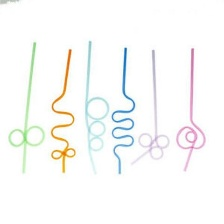drinking_straw: (3, 38, 47, 177), (170, 44, 209, 177), (106, 42, 139, 180)
